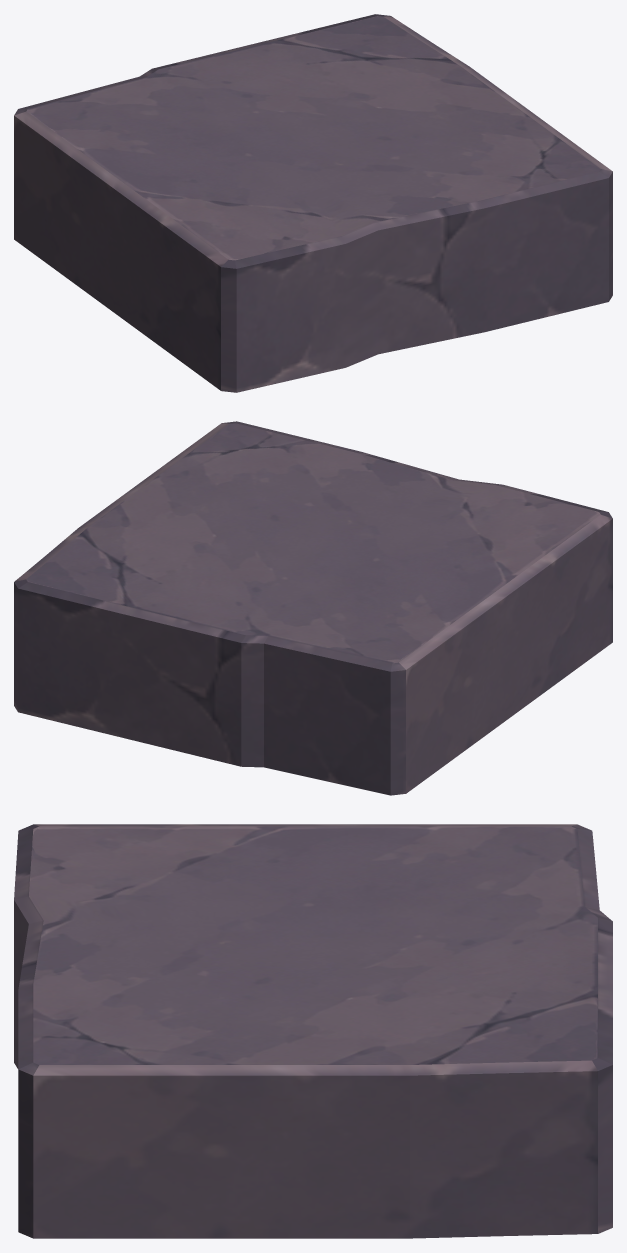
File: Stone_tile_a.FBX
3 views of the same model, one above another, from view 1: azimuth 30°, elevation 25°; view 2: azimuth 150°, elevation 25°; view 3: azimuth 270°, elevation 25° (orthographic). The views are drawn at different scales.
Visible parts, largest first — view 1: Box017; view 2: Box017; view 3: Box017.
Boxes of the visible parts, x1=… form: Box017: x1=14, y1=14, x2=612, y2=392; Box017: x1=14, y1=421, x2=612, y2=795; Box017: x1=14, y1=824, x2=612, y2=1238.
Bounding box in the file's own units: 3.49 × 1.11 × 3.52.
1 material, 1 textured.
